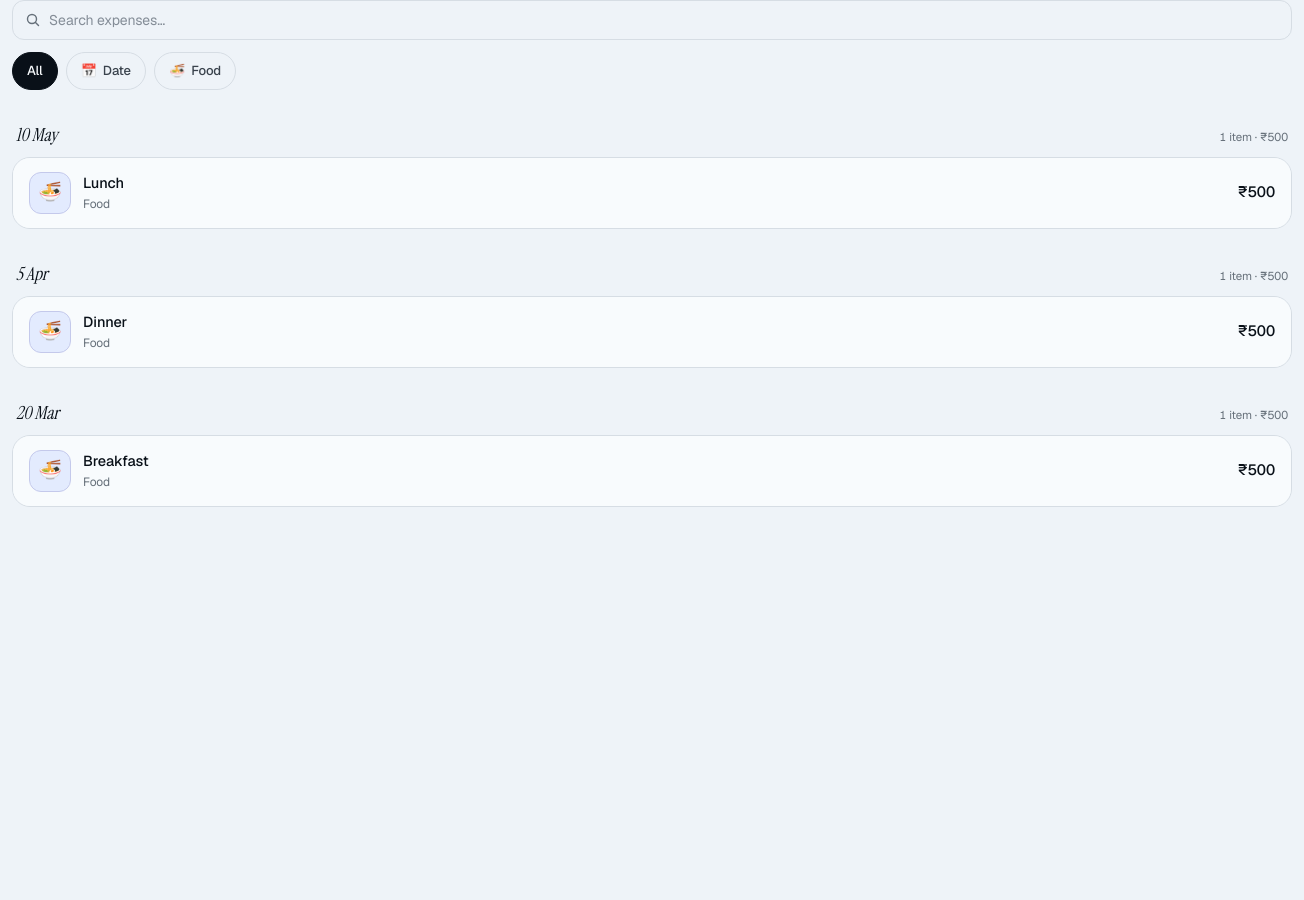
Scenario: MobileExpenses — date row validation › Apply is enabled when both dates are valid and from <= to
Click the button "📅 Date" at [106, 71], box [66, 52, 146, 90]
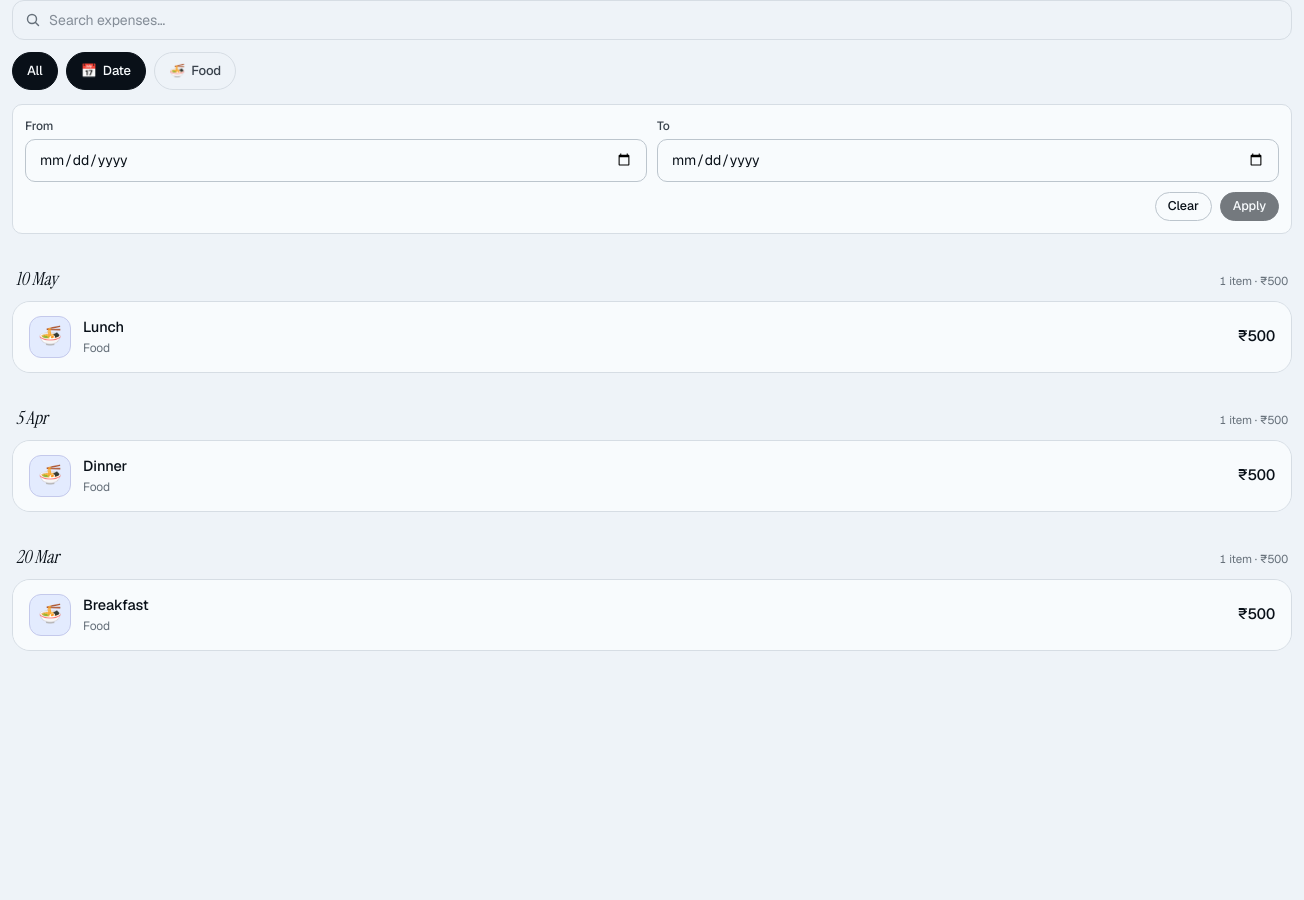
Type "2025-05-01" into the date field labelled "From" at [336, 160], box [25, 138, 647, 182]
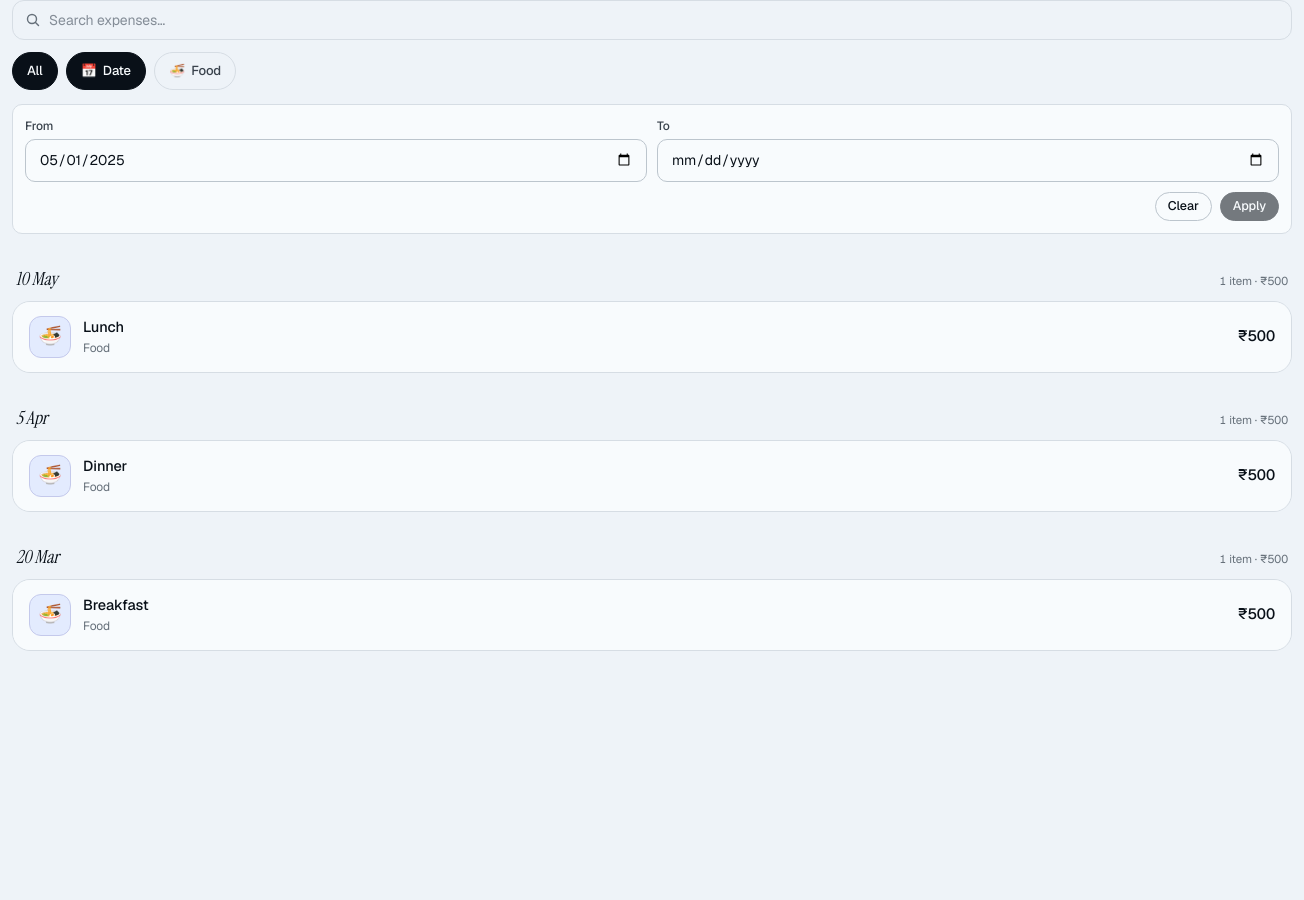
Type "2025-05-15" into the date field labelled "To" at [968, 160], box [657, 138, 1279, 182]
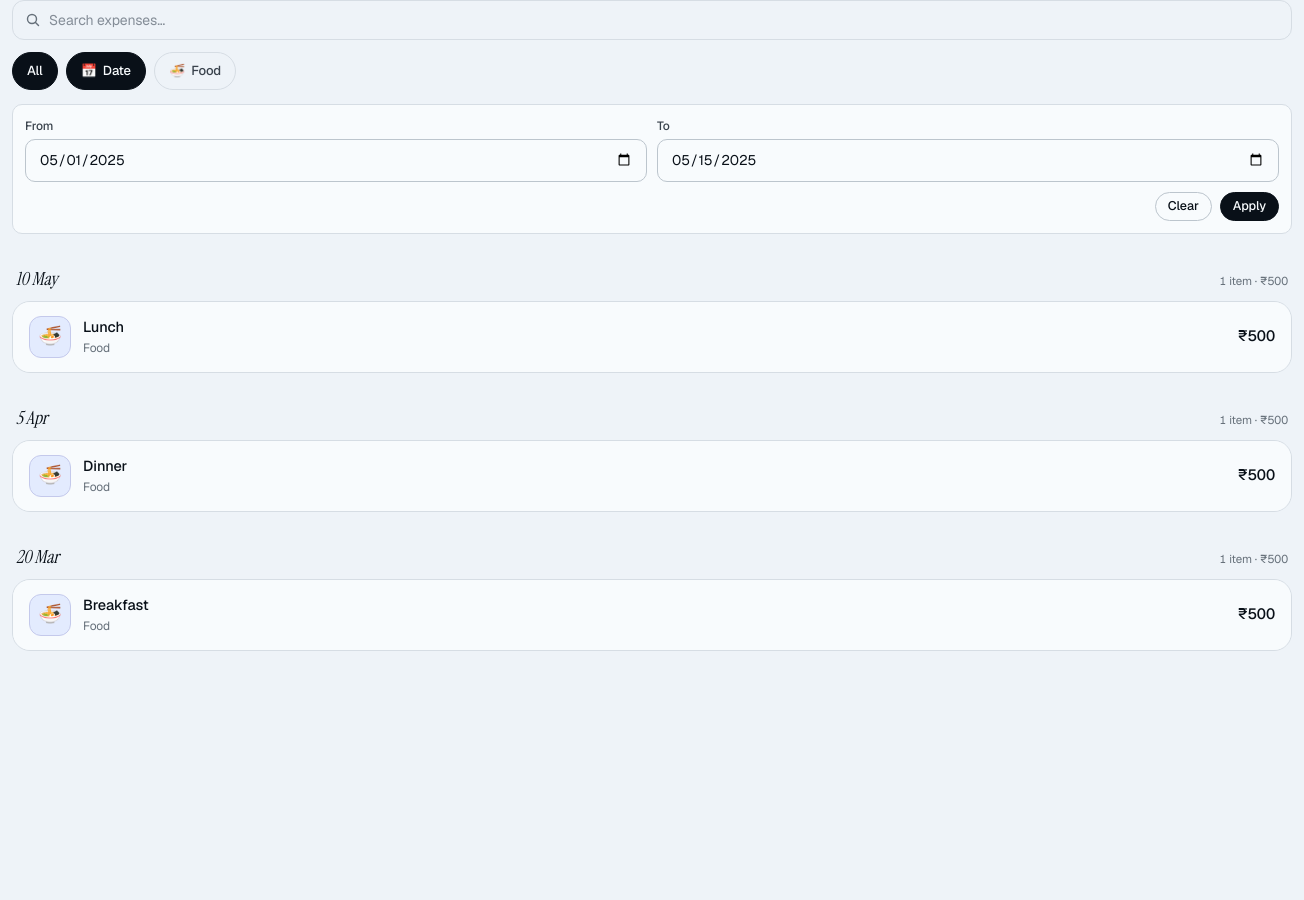
Now the button "Apply" is enabled, box [1220, 192, 1279, 221]
